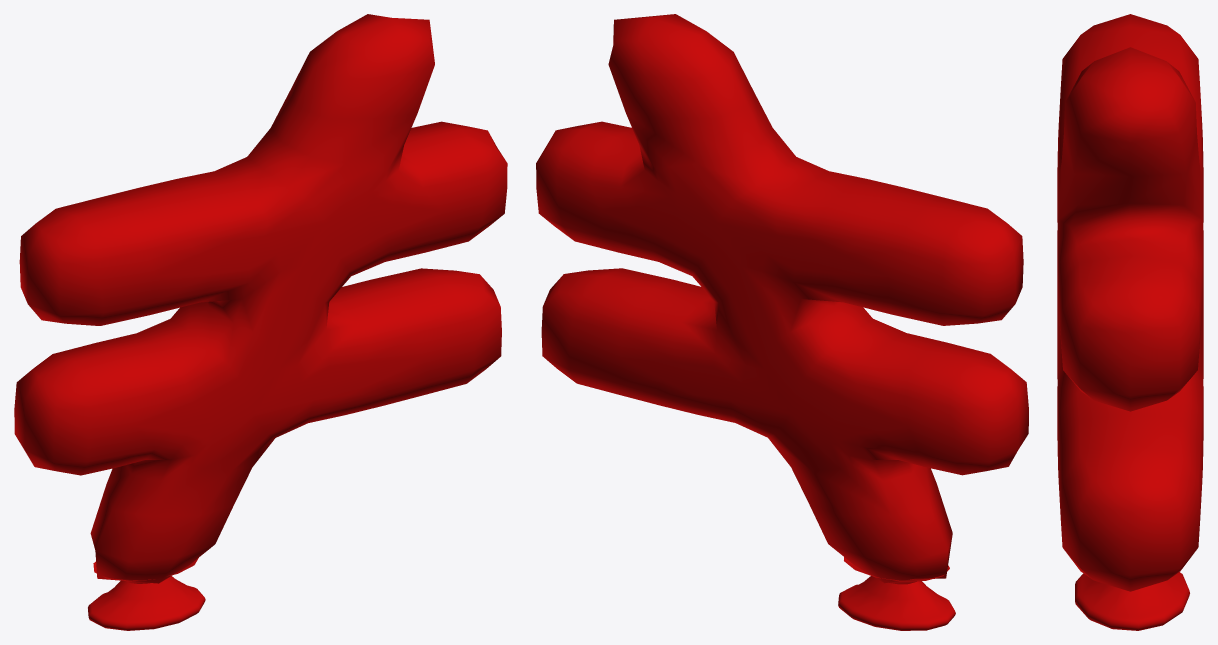
3 views of the same model, side by side, from view 1: azimuth 30°, elevation 25°; view 2: azimuth 150°, elevation 25°; view 3: azimuth 270°, elevation 25° (orthographic). The views are drawn at different scales.
Visible parts, largest first — view 1: Text034; view 2: Text034; view 3: Text034.
Boxes of the visible parts, <box> form: Text034: <box>14,14,507,630</box>; Text034: <box>536,14,1028,630</box>; Text034: <box>1057,14,1203,630</box>.
Bounding box in the file's own units: 66.48 × 71.87 × 13.93.
